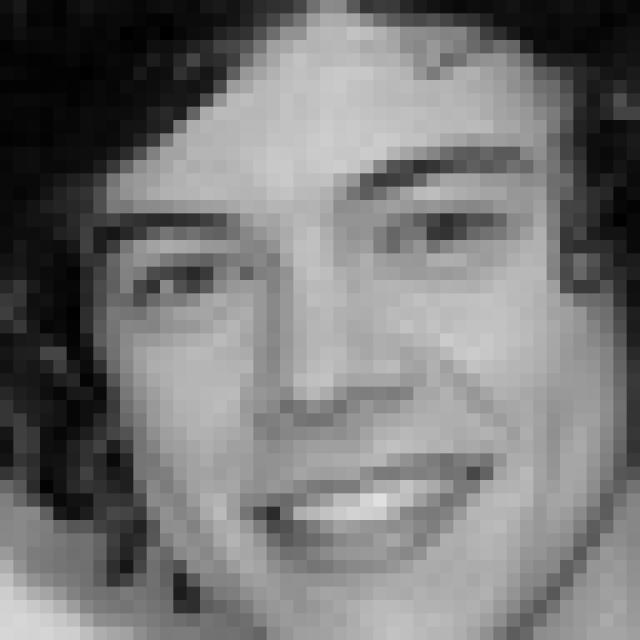happy: (88, 134, 540, 589)
